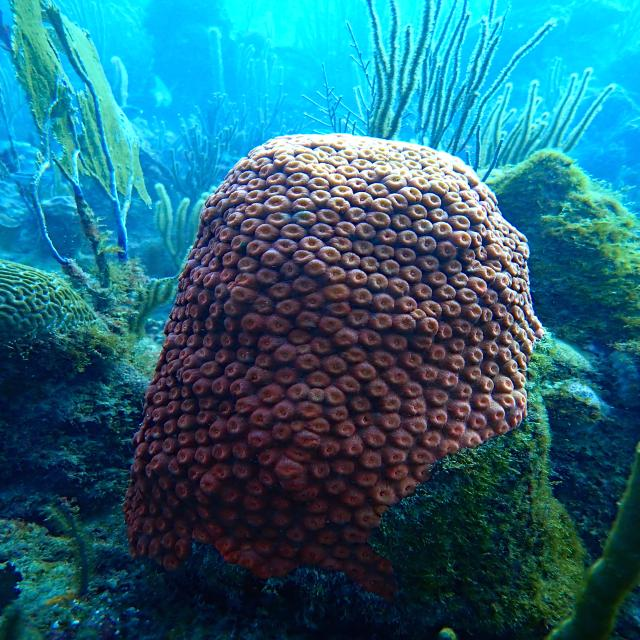Coral: (122, 133, 549, 597), (0, 0, 153, 211), (0, 257, 110, 349)
